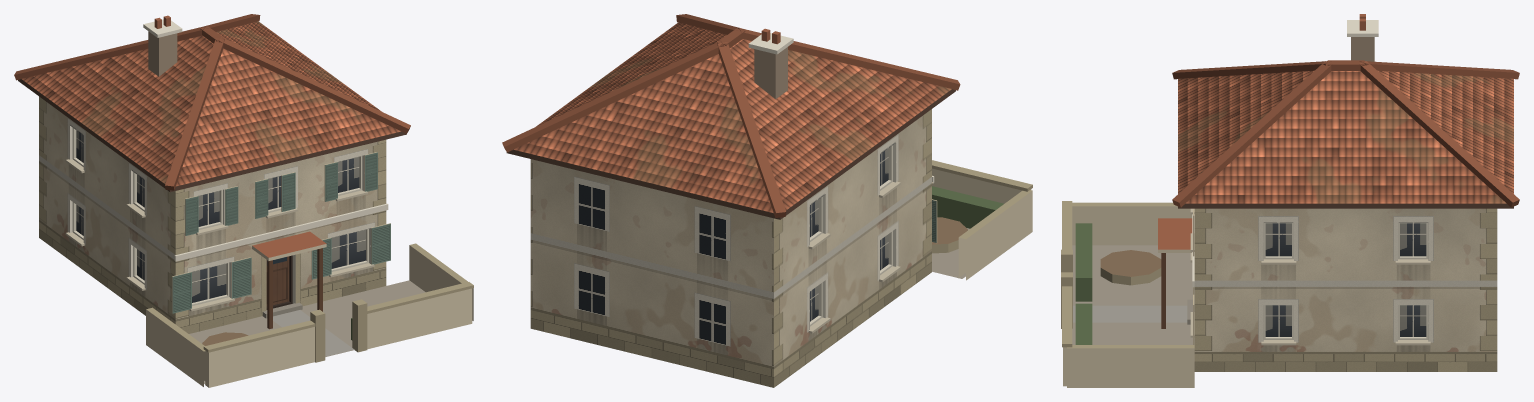
The model's file is hero_house_a.glb.
3 renders of one model, left to right at view 1: azimuth 30°, elevation 25°; view 2: azimuth 150°, elevation 25°; view 3: azimuth 270°, elevation 25°, orthographic. The views are drawn at different scales.
Visible parts, largest first — view 1: bld_hero_house_a; view 2: bld_hero_house_a; view 3: bld_hero_house_a.
Part boxes in pixels (x1,y1,x2,y2): bld_hero_house_a: [14, 14, 473, 387]; bld_hero_house_a: [502, 14, 1032, 387]; bld_hero_house_a: [1061, 14, 1519, 387].
Size of the model in its own units: 10.25 by 9.02 by 13.65.
Materials: 1 (1 with a texture image).
